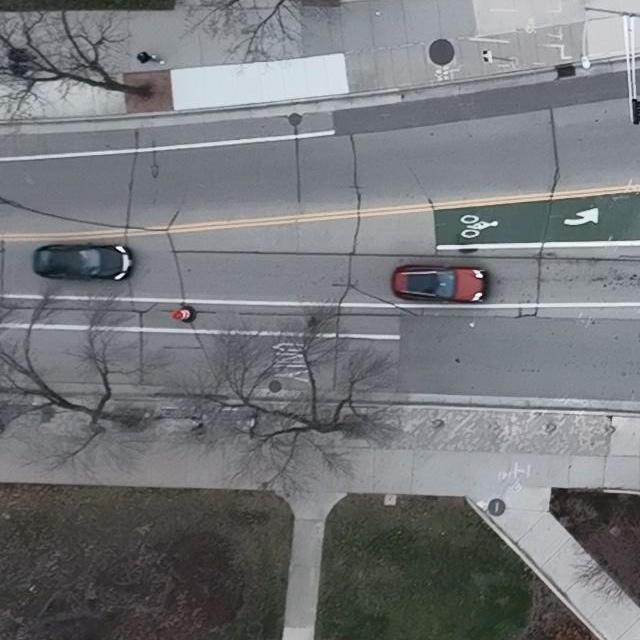car: (391, 264, 488, 305), (33, 243, 134, 281)
